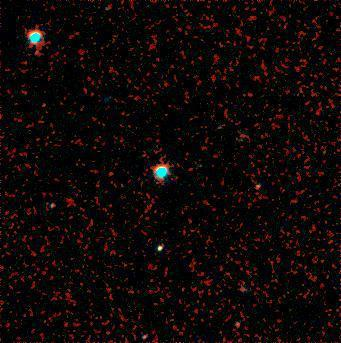star: (31, 90, 61, 120)
